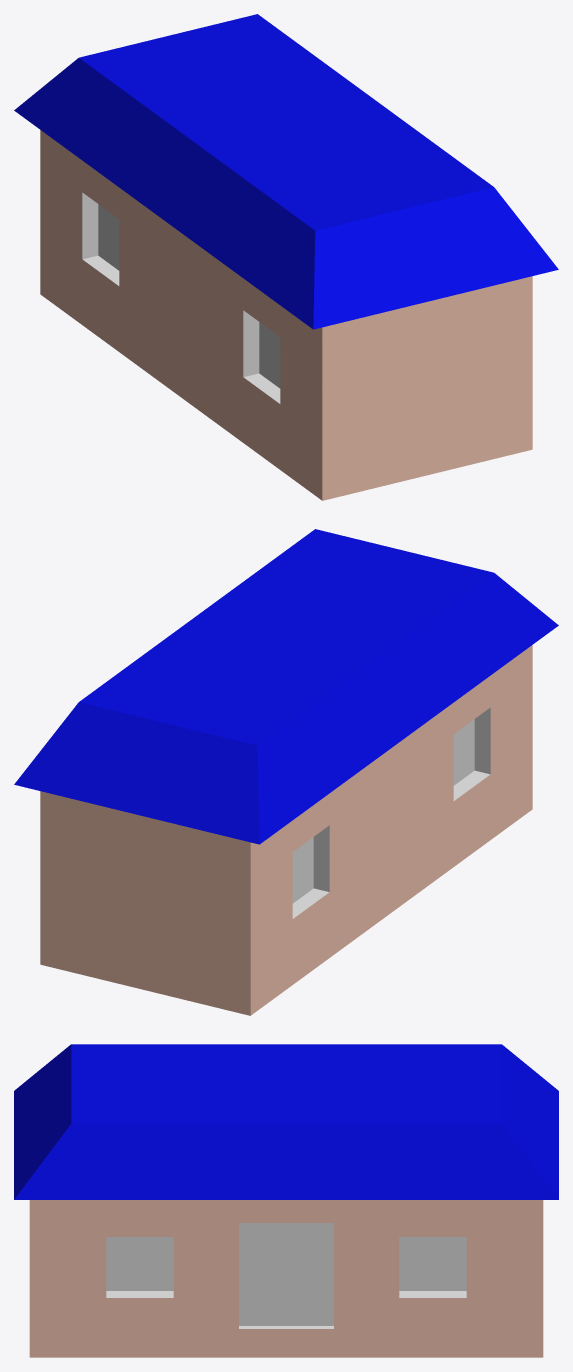
The model's file is home1.glb.
The picture shows the model from 3 angles, top to bottom: view 1: azimuth 30°, elevation 25°; view 2: azimuth 150°, elevation 25°; view 3: azimuth 270°, elevation 25°; orthographic projection. The views are drawn at different scales.
Visible parts, largest first — view 1: Cube; view 2: Cube; view 3: Cube.
Boxes of the visible parts, <box> form: Cube: <box>14,14,558,500</box>; Cube: <box>14,529,558,1015</box>; Cube: <box>14,1044,558,1357</box>.
Size of the model in its own units: 2.83 by 2.74 by 5.97.
